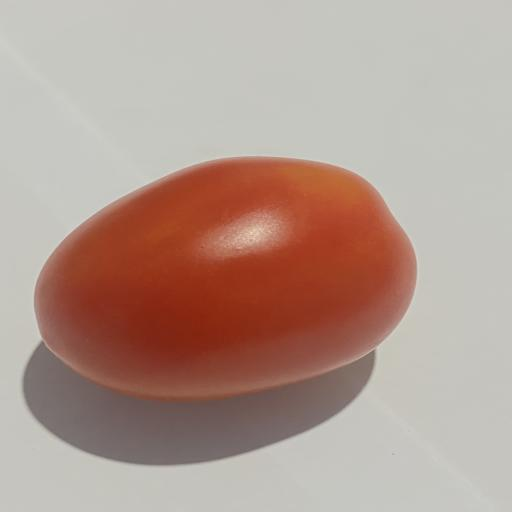ripe: (35, 157, 416, 401)
